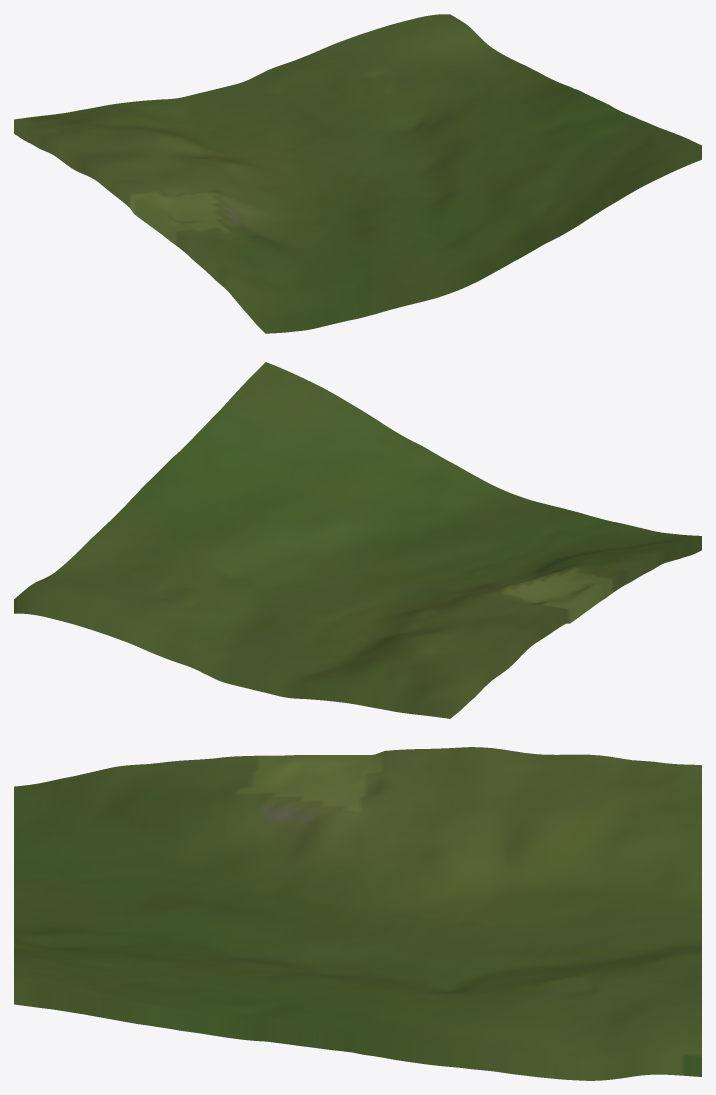
Rendered from terrain_10_-22.glb.
3 views of the same model, one above another, from view 1: azimuth 30°, elevation 25°; view 2: azimuth 150°, elevation 25°; view 3: azimuth 270°, elevation 25° (orthographic). The views are drawn at different scales.
Visible parts, largest first — view 1: terrain_10_-22; view 2: terrain_10_-22; view 3: terrain_10_-22.
Boxes of the visible parts, <box> form: terrain_10_-22: <box>14,14,701,333</box>; terrain_10_-22: <box>14,362,701,718</box>; terrain_10_-22: <box>14,747,701,1080</box>.
Bounding box in the file's own units: 256 × 50.12 × 256.
